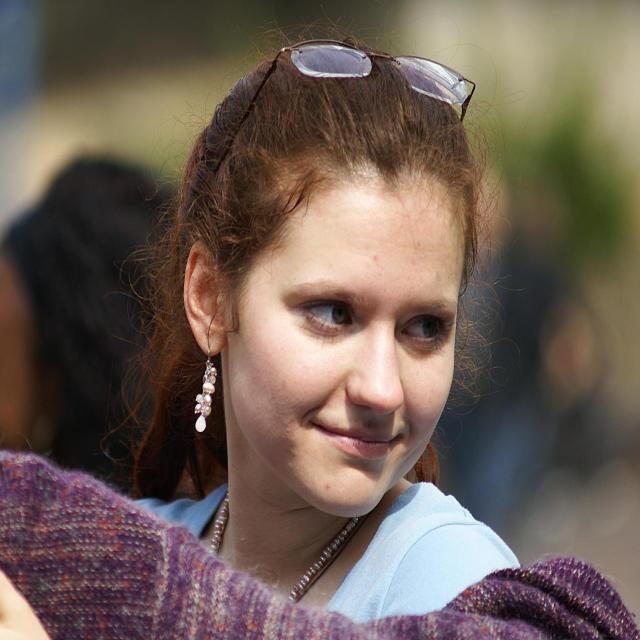Eyebags: (297, 314, 353, 347), (397, 337, 439, 359)
